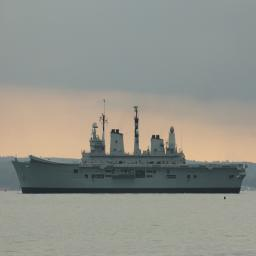Portanaves: (11, 93, 249, 197)
